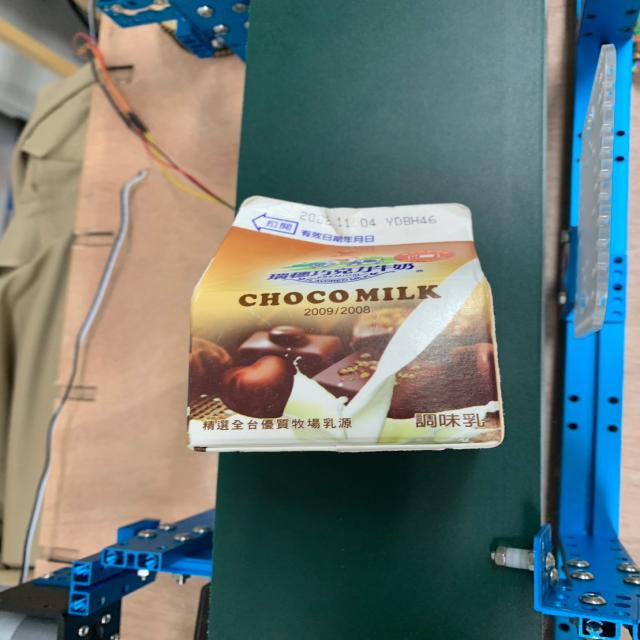non_white_jug: (168, 185, 539, 470)
